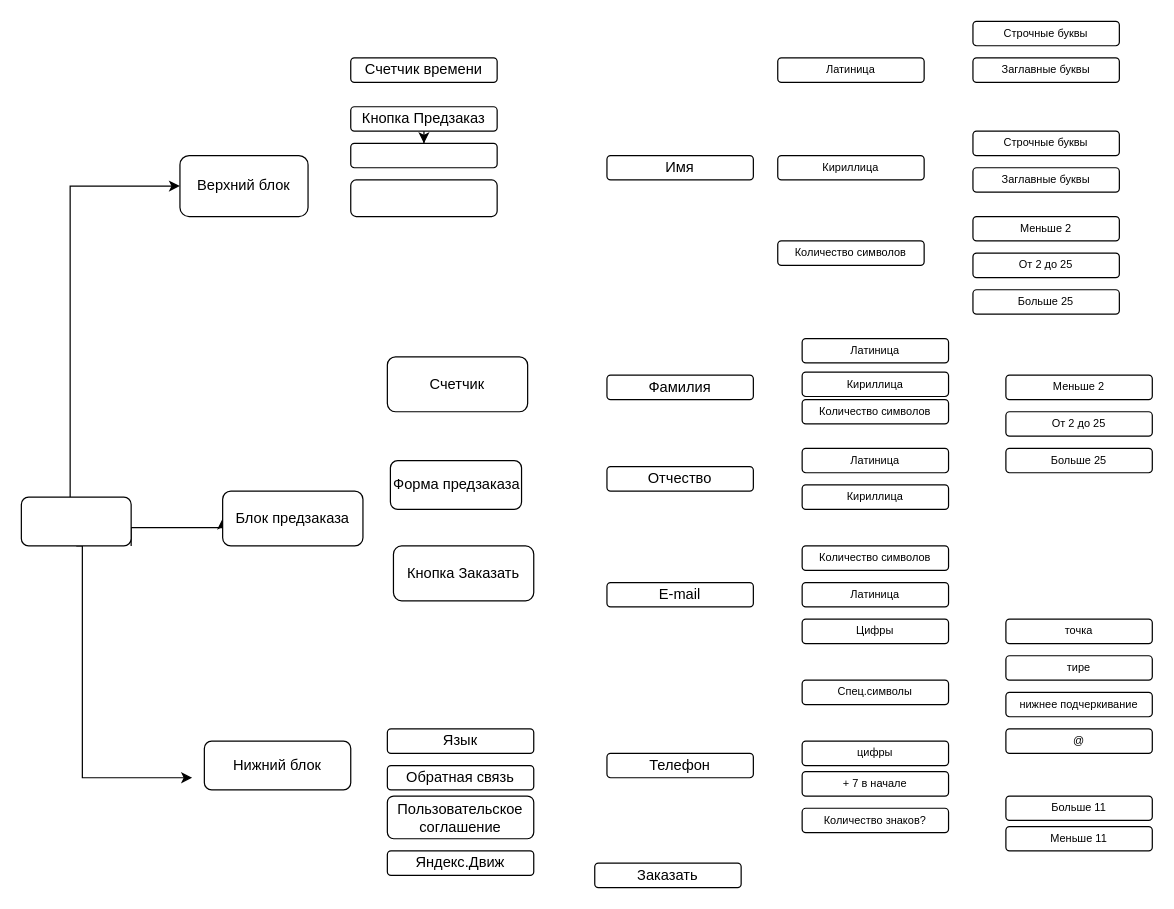
Some shapes in this 1174 by 909 pixel diagram are drawn without their labels. The shapes that lost their labels are listed below. From the top down, each one's centre as x and y in pixels, then its label:
At pixel 423 155: "Подробнее".
At pixel 423 198: "Текст Новое Поколение Самокатов".
At pixel 75 521: "Яндекс.самокат".
